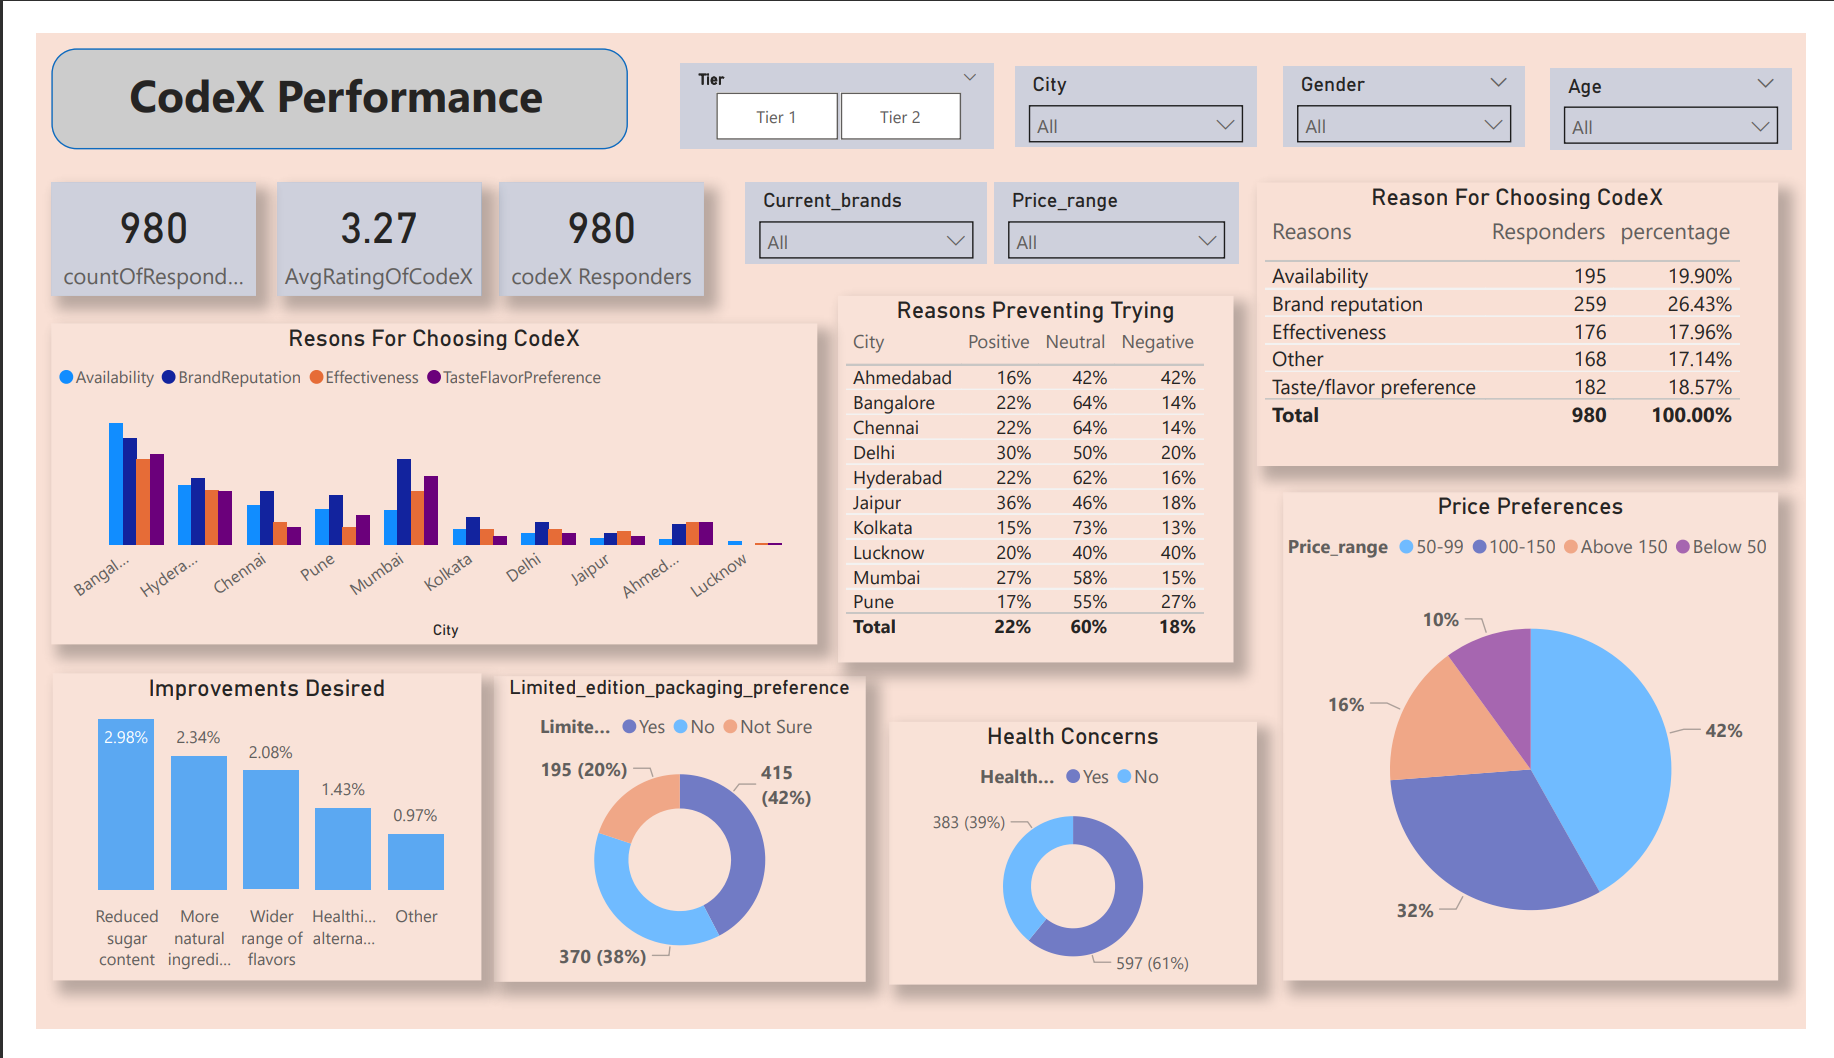

The dashboard page shown, as its layout file describes it:
{"tool":"powerbi","page":{"name":"CodeX Performance","canvas":[1280,720],"ordinal":4},"visuals":[{"type":"card","fields":{"Values":["Key_measures.AvgRatingOfCodeX"]},"box":[174.1,107.8,147.9,82.2],"z":0,"group":"g2"},{"type":"slicer","fields":{"Values":["fact_survey_responses.Current_brands"]},"box":[512.9,107.8,174.7,59.5],"z":0},{"type":"group","id":"g1","title":"Group 1","box":[11.2,11.2,416.8,73.2],"z":1000},{"type":"pieChart","title":"Price Preferences ","fields":{"Category":["fact_survey_responses.Price_range"],"Y":["Key_measures.codeX Responders"]},"box":[901.7,331.7,358.3,353.3],"z":2000},{"type":"slicer","fields":{"Values":["dim_repondents.Age"]},"box":[1095.1,25.4,174.8,58.3],"z":3000},{"type":"card","fields":{"Values":["Key_measures.countOfResponders"]},"box":[11.2,107.8,147.9,82.2],"z":3000,"group":"g2"},{"type":"slicer","fields":{"Values":["dim_cities.City"]},"box":[708.2,23.9,174.8,58.3],"z":4000},{"type":"card","fields":{"Values":["Key_measures.codeX Responders"]},"box":[335.4,107.8,147.9,82.2],"z":4000,"group":"g2"},{"type":"slicer","fields":{"Values":["dim_repondents.Gender"]},"box":[902.4,23.9,174.8,58.3],"z":5000},{"type":"slicer","fields":{"Values":["dim_cities.Tier"]},"box":[466.1,22.4,227.1,61.3],"z":6000},{"type":"group","id":"g2","title":"Group 2","box":[11.2,107.8,472.1,81.8],"z":7000},{"type":"clusteredColumnChart","title":"Resons For Choosing CodeX","fields":{"Category":["dim_cities.City"],"Y":["Key_measures.Availability_Count_CodeX","Key_measures.BrandReputation_Count_CodeX","Key_measures.Effectiveness_Count_CodeX","Key_measures.TasteFlavorPreference_Count_CodeX"]},"box":[11,210,554,232],"z":8000},{"type":"shape","box":[11.2,11.2,416.8,73.2],"z":9000,"group":"g1"},{"type":"slicer","fields":{"Values":["fact_survey_responses.Price_range"]},"box":[693.2,107.8,176.6,59.5],"z":9000},{"type":"textbox","box":[25.9,17.6,391.7,58.3],"z":10000,"group":"g1"},{"type":"tableEx","title":"Reason For Choosing CodeX","fields":{"Values":["fact_survey_responses.Reasons_for_choosing_brands","Key_measures.codeX Responders","Key_measures.Percentage of CodeXRespondents"]},"box":[882.5,107.5,377.5,205],"z":10000},{"type":"clusteredColumnChart","title":"Improvements Desired","fields":{"Category":["fact_survey_responses.Improvements_desired"],"Y":["Key_measures.Percentage of Respondents"]},"box":[11.7,463.3,310,221.7],"z":11000},{"type":"tableEx","title":"Reasons Preventing Trying","fields":{"Values":["dim_cities.City","Key_measures.Percentage of Positive CodeX Respondents","Key_measures.Percentage of Neutral CodeX Respondents","Key_measures.Percentage of Negative CodeX Respondents"]},"box":[579.8,189.6,286.2,265.8],"z":12000},{"type":"donutChart","title":"Health Concerns ","fields":{"Category":["fact_survey_responses.Health_concerns"],"Y":["Key_measures.codeX Responders"]},"box":[617,498.1,265.8,189.6],"z":13000},{"type":"donutChart","title":"Limited_edition_packaging_preference","fields":{"Y":["Key_measures.countOfResponders"],"Category":["fact_survey_responses.Limited_edition_packaging"]},"box":[330.8,464.6,269.5,221.2],"z":14000}]}

Visuals, with their boxes in screenshot pixels (x1, y1, x2, y2), scaled from the page's 1280x720 canvas onto the 1834x1058 screenshot:
card - Key_measures.AvgRatingOfCodeX: [249,158,461,279]
slicer - fact_survey_responses.Current_brands: [735,158,985,246]
"Group 1" group: [16,16,613,124]
"Price Preferences " pieChart: [1292,487,1805,1007]
slicer - dim_repondents.Age: [1569,37,1820,123]
card - Key_measures.countOfResponders: [16,158,228,279]
slicer - dim_cities.City: [1015,35,1265,121]
card - Key_measures.codeX Responders: [481,158,692,279]
slicer - dim_repondents.Gender: [1293,35,1543,121]
slicer - dim_cities.Tier: [668,33,993,123]
"Group 2" group: [16,158,692,279]
"Resons For Choosing CodeX" clusteredColumnChart: [16,309,810,649]
shape: [16,16,613,124]
slicer - fact_survey_responses.Price_range: [993,158,1246,246]
textbox: [37,26,598,112]
"Reason For Choosing CodeX" tableEx: [1264,158,1805,459]
"Improvements Desired" clusteredColumnChart: [17,681,461,1007]
"Reasons Preventing Trying" tableEx: [831,279,1241,669]
"Health Concerns " donutChart: [884,732,1265,1011]
"Limited_edition_packaging_preference" donutChart: [474,683,860,1008]
